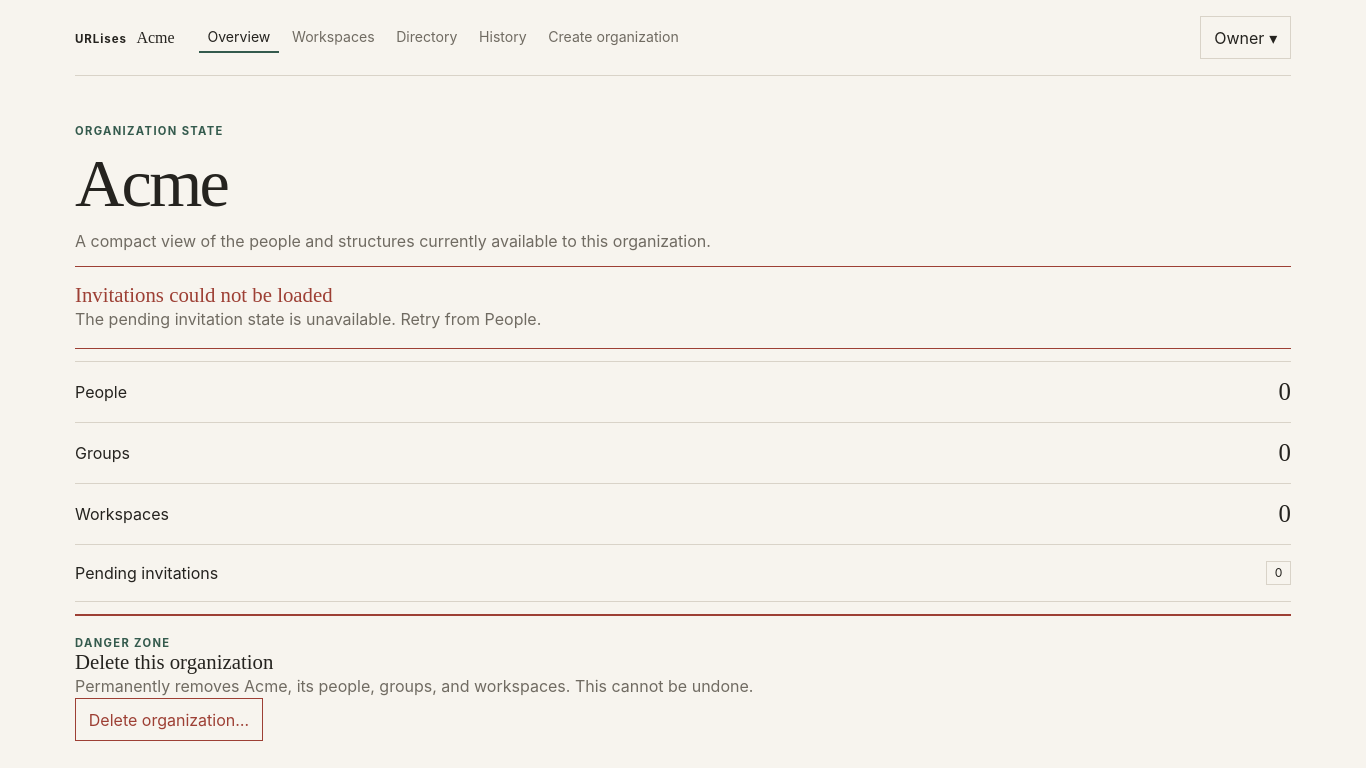
AdminShellContext › closes the Account menu when switching organizations but keeps it open when using the theme toggle
Click the button "Owner ▾".
click(1246, 38)  # box x1=1200 y1=16 x2=1291 y2=59
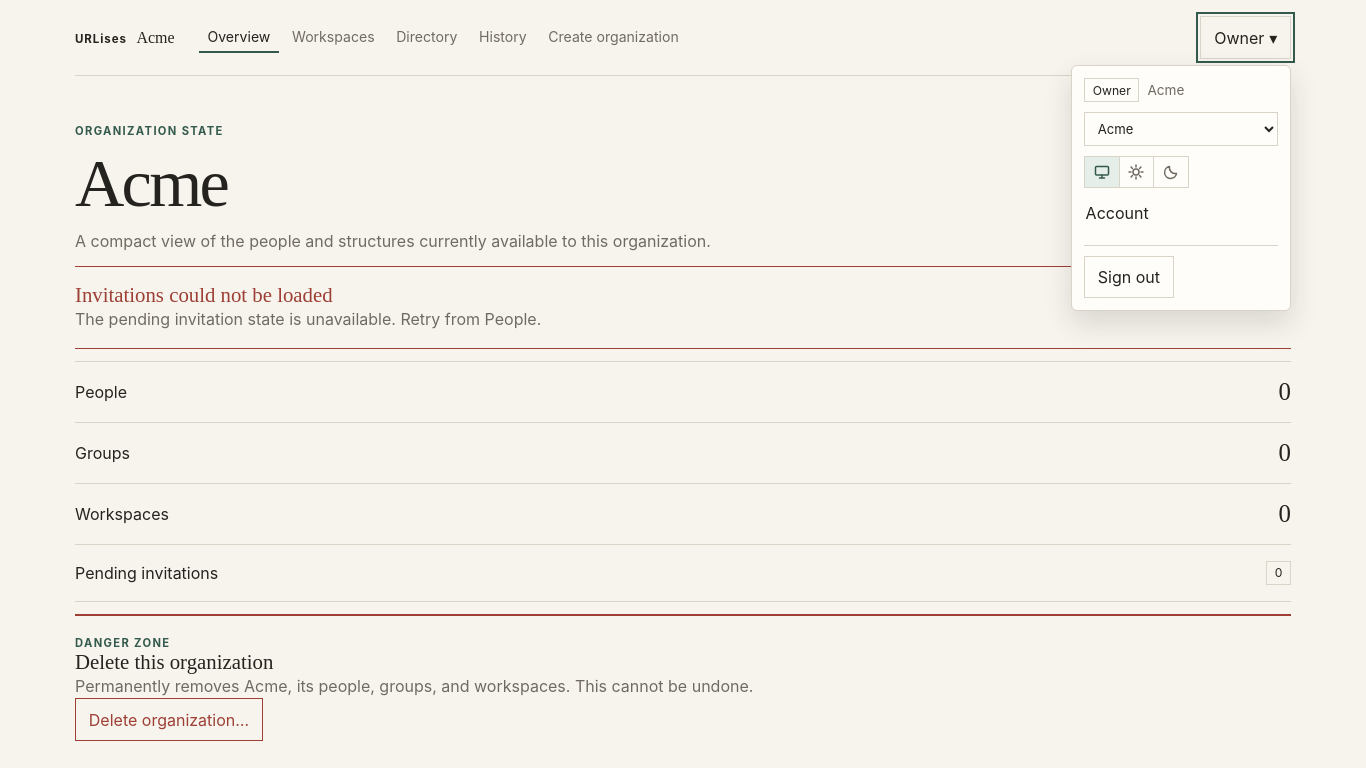
Expected: the menu is shown, x1=1071 y1=65 x2=1291 y2=311
Click the button named "Dark theme".
click(1172, 172)  # box x1=1154 y1=156 x2=1189 y2=188
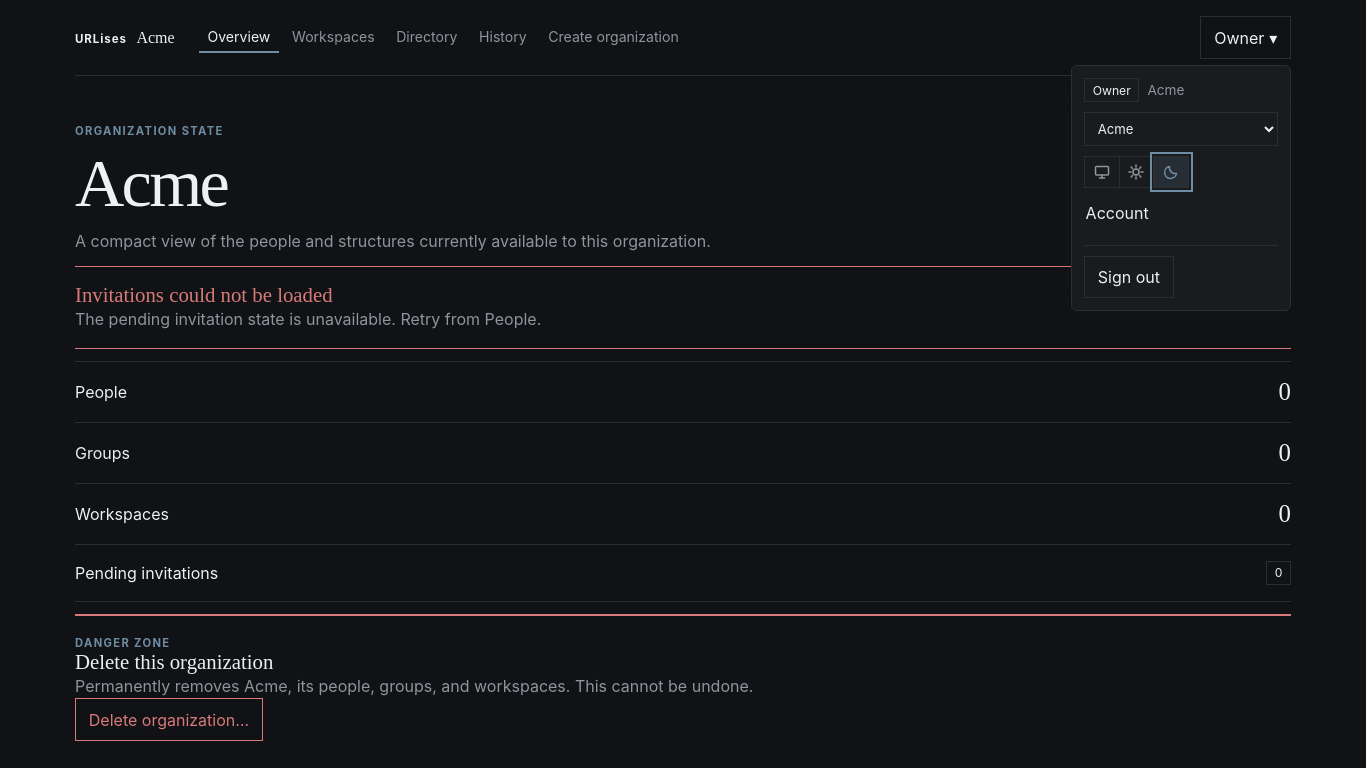
Expected: the menu is shown, x1=1071 y1=65 x2=1291 y2=311
Select "Other Co" in the dropdown named "Active organization" at (1181, 129), box x1=1084 y1=112 x2=1278 y2=146
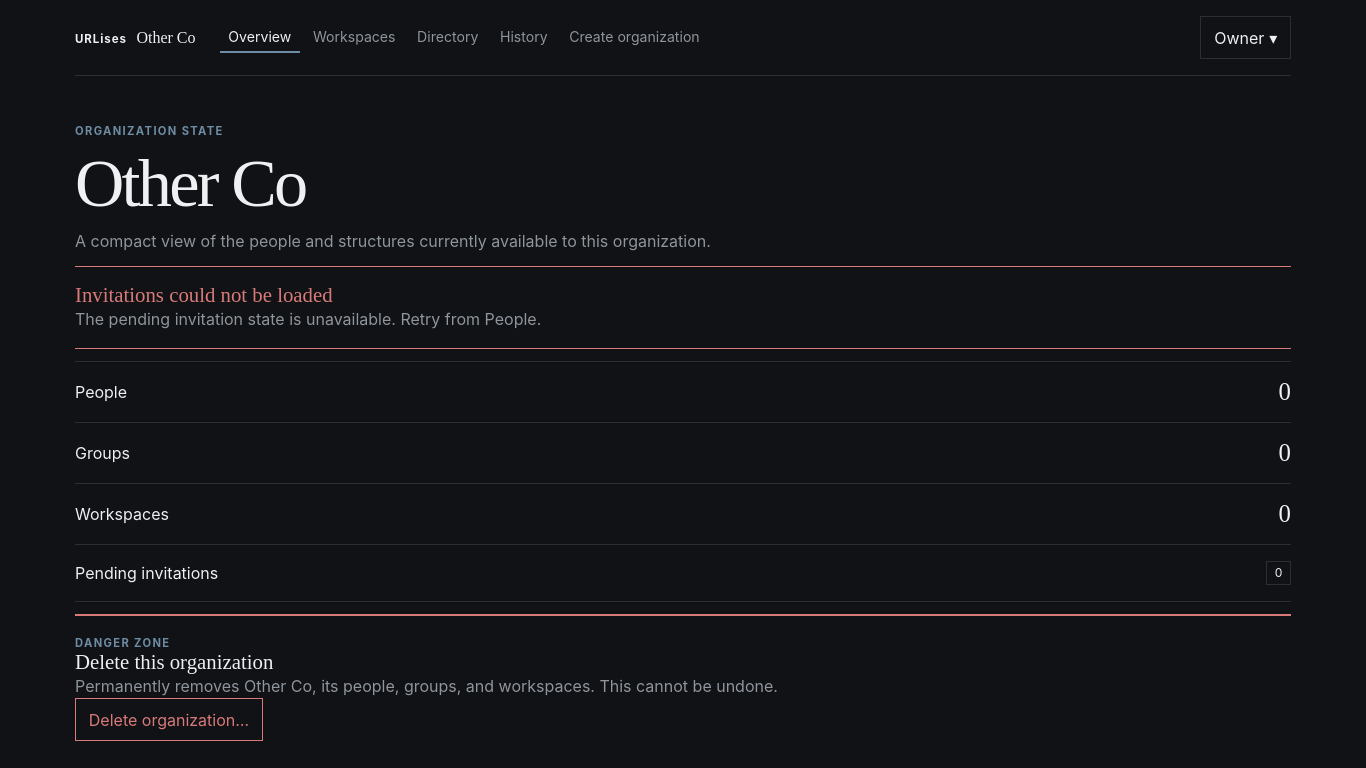
Expected: the menu is gone
